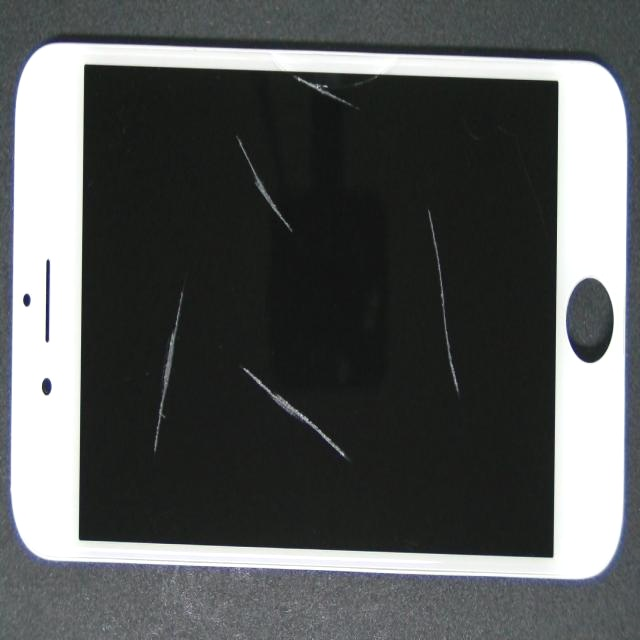scratch: (254, 304, 640, 490), (101, 52, 246, 513)
